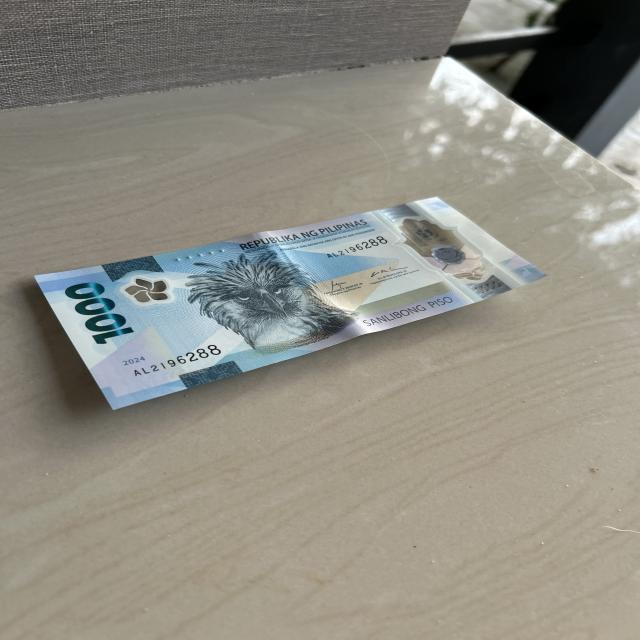clear_window: (394, 212, 488, 282)
eagle: (186, 252, 324, 348)
sampaguita: (119, 275, 178, 306)
